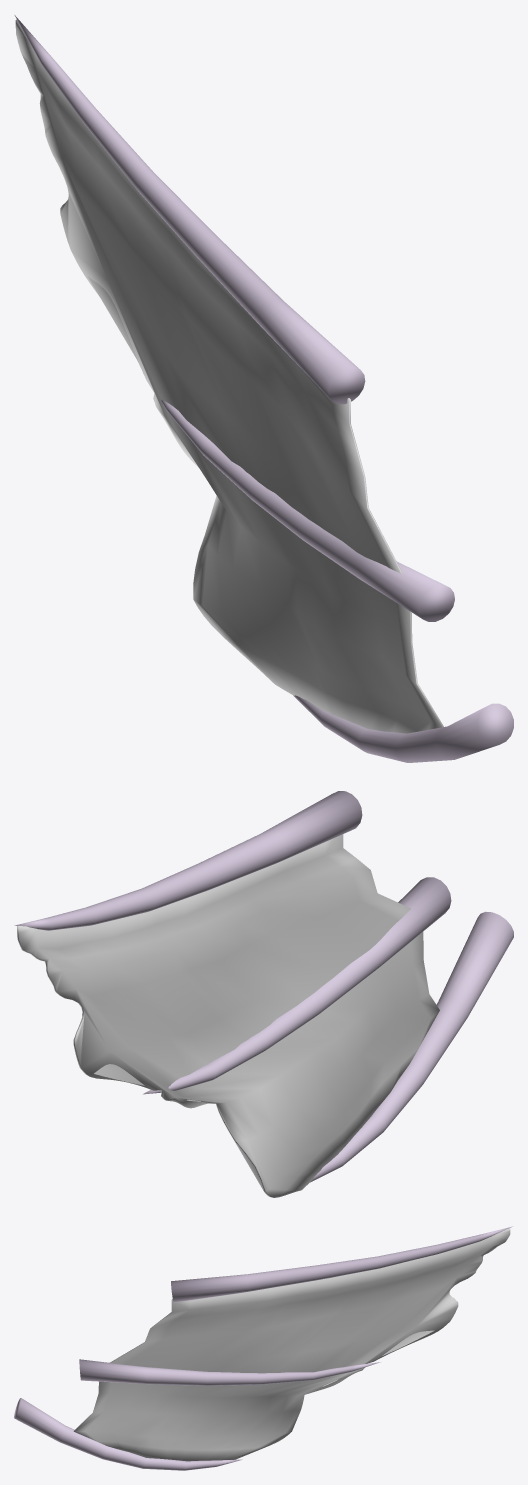
File: Purje.fbx
The picture shows the model from 3 angles, top to bottom: view 1: azimuth 30°, elevation 25°; view 2: azimuth 150°, elevation 25°; view 3: azimuth 270°, elevation 25°; orthographic projection. The views are drawn at different scales.
Visible parts, largest first — view 1: Purje.001, Spike1; view 2: Purje.001, Spike1; view 3: Purje.001, Spike1.
Part boxes in pixels (bbox=[...]): Purje.001: bbox=[15, 19, 443, 733]; Spike1: bbox=[14, 15, 513, 762]; Purje.001: bbox=[17, 834, 439, 1197]; Spike1: bbox=[14, 791, 513, 1182]; Purje.001: bbox=[73, 1228, 510, 1461]; Spike1: bbox=[14, 1226, 512, 1470].
Size of the model in its own units: 149 by 1221 by 2257.
